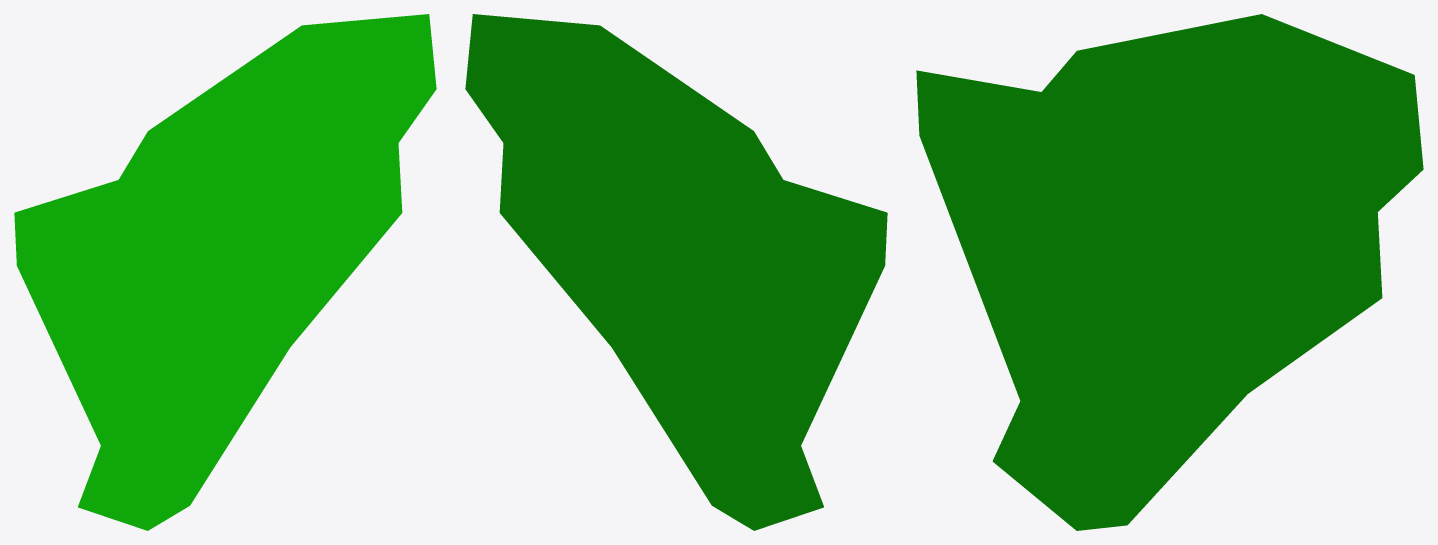
File: IslandMoon_BuildArea_3.fbx
3 renders of one model, left to right at view 1: azimuth 30°, elevation 25°; view 2: azimuth 150°, elevation 25°; view 3: azimuth 330°, elevation 25°, orthographic. The views are drawn at different scales.
Visible parts, largest first — view 1: IslandMoon_BuildArea_3; view 2: IslandMoon_BuildArea_3; view 3: IslandMoon_BuildArea_3.
Boxes of the visible parts, <box> form: IslandMoon_BuildArea_3: <box>14,14,436,530</box>; IslandMoon_BuildArea_3: <box>465,14,887,530</box>; IslandMoon_BuildArea_3: <box>916,14,1423,530</box>.
Size of the model in its own units: 13.23 by 9.54e-07 by 14.01.
